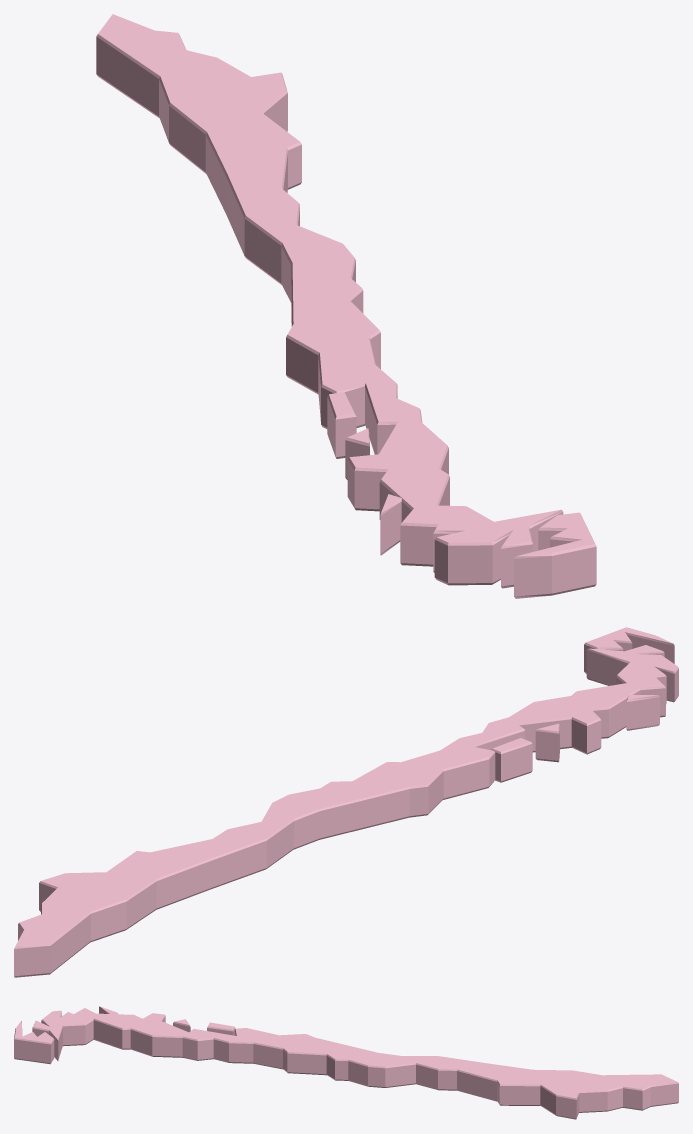
The model's file is CHL.glb.
The picture shows the model from 3 angles, top to bottom: view 1: azimuth 30°, elevation 25°; view 2: azimuth 150°, elevation 25°; view 3: azimuth 270°, elevation 25°; orthographic projection. The views are drawn at different scales.
Size of the model in its own units: 0.634 by 0.068 by 1.92.
